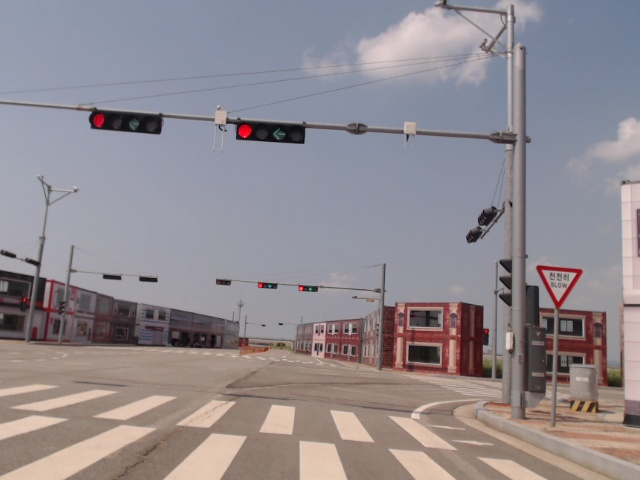left_green_4: (89, 110, 160, 134), (237, 121, 305, 143)
